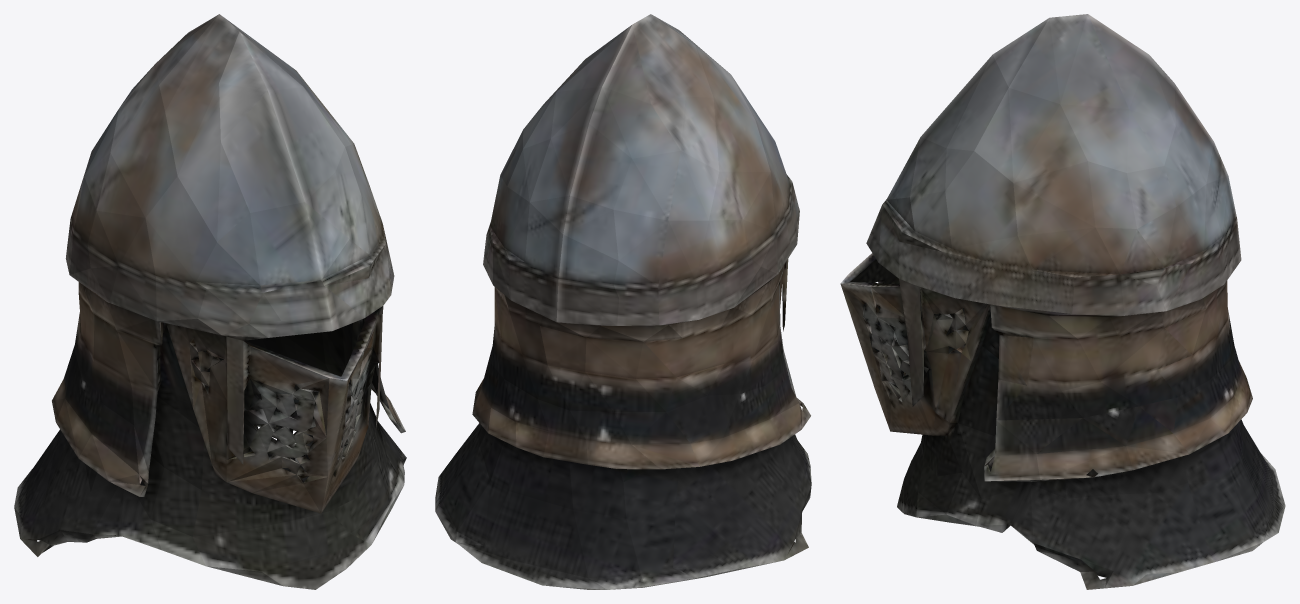
File: helmet_sentinel_lod0.glb
The picture shows the model from 3 angles, left to right: view 1: azimuth 30°, elevation 25°; view 2: azimuth 150°, elevation 25°; view 3: azimuth 270°, elevation 25°; orthographic projection. The views are drawn at different scales.
Visible parts, largest first — view 1: helmet_sentinel_lod0; view 2: helmet_sentinel_lod0; view 3: helmet_sentinel_lod0.
Boxes of the visible parts, x1,y1,x2,y2 form: helmet_sentinel_lod0: [14, 14, 406, 589]; helmet_sentinel_lod0: [435, 14, 811, 589]; helmet_sentinel_lod0: [840, 14, 1285, 589].
Bounding box in the file's own units: 0.3008 × 0.398 × 0.3242.
Materials: 1 (1 with a texture image).
